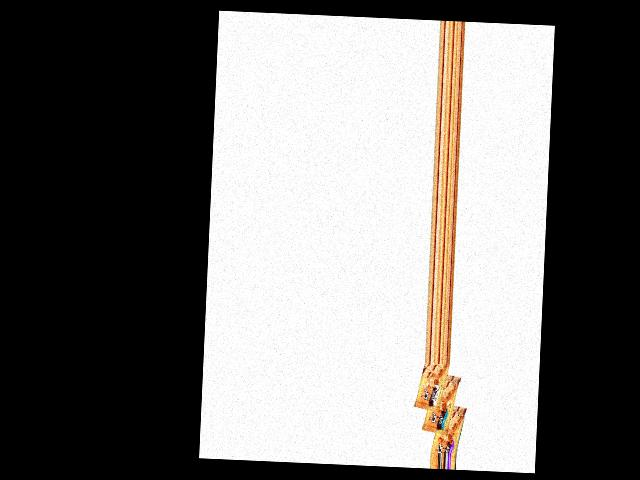chocolate: (429, 400, 464, 454)
